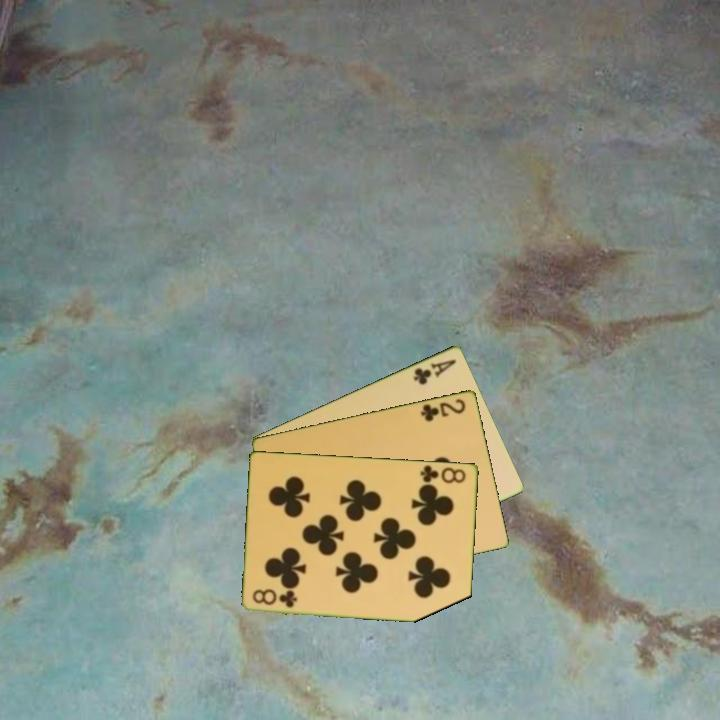2c: (417, 395, 469, 424)
8c: (417, 462, 469, 487), (249, 586, 300, 610)
Ac: (410, 355, 459, 387)
